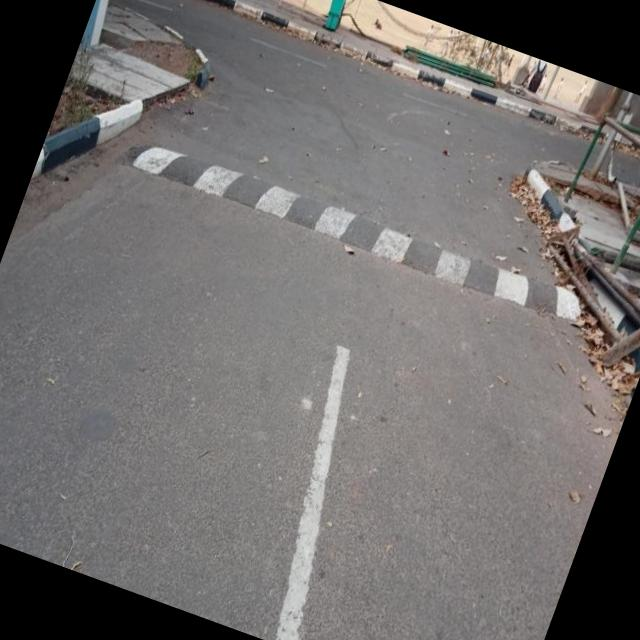bump: (140, 120, 593, 338)
